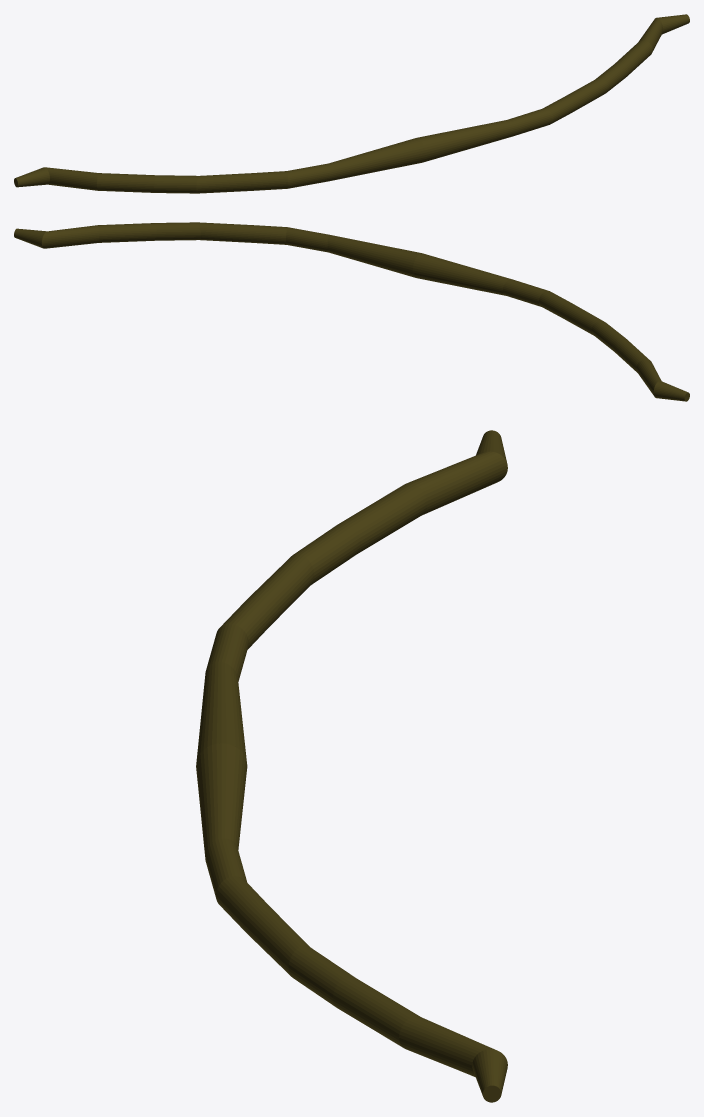
Rendered from bow_01.fbx.
The picture shows the model from 3 angles, top to bottom: view 1: azimuth 30°, elevation 25°; view 2: azimuth 150°, elevation 25°; view 3: azimuth 270°, elevation 25°; orthographic projection. The views are drawn at different scales.
Visible parts, largest first — view 1: bow; view 2: bow; view 3: bow.
Part boxes in pixels (x1=…): bow: x1=14, y1=14, x2=689, y2=193; bow: x1=14, y1=222, x2=689, y2=401; bow: x1=196, y1=430, x2=507, y2=1102.
Size of the model in its own units: 8699 by 288 by 1748.
